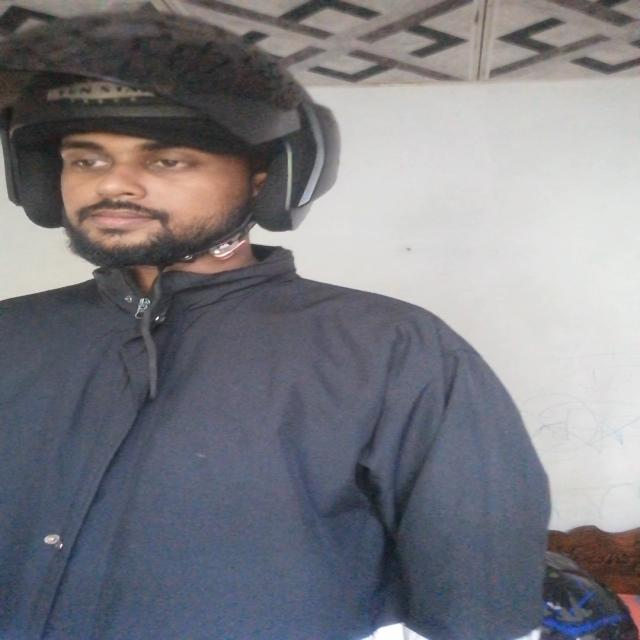Helmet_Wearer: (9, 19, 327, 269)
Jacket_Wearer: (9, 238, 563, 626)
Person: (3, 12, 606, 640)
